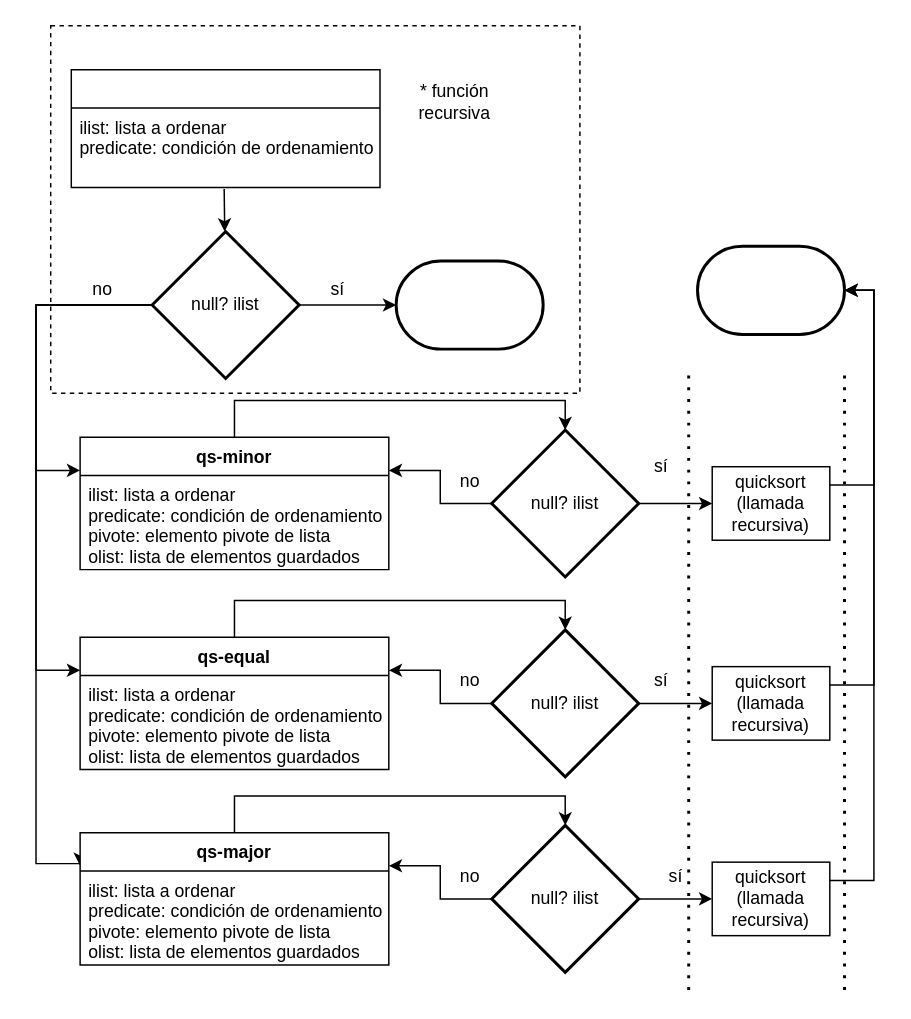
This 911x1019 diagram has some shape labels left out. The shapes that lost their labels are listed below. From the top down, each one's box as (x1, y1, x2, y2) in pixels, then its label:
(70, 68, 380, 187): quicksort
(394, 259, 544, 350): Return olist
(695, 244, 845, 335): Retorno de la unión de listas
